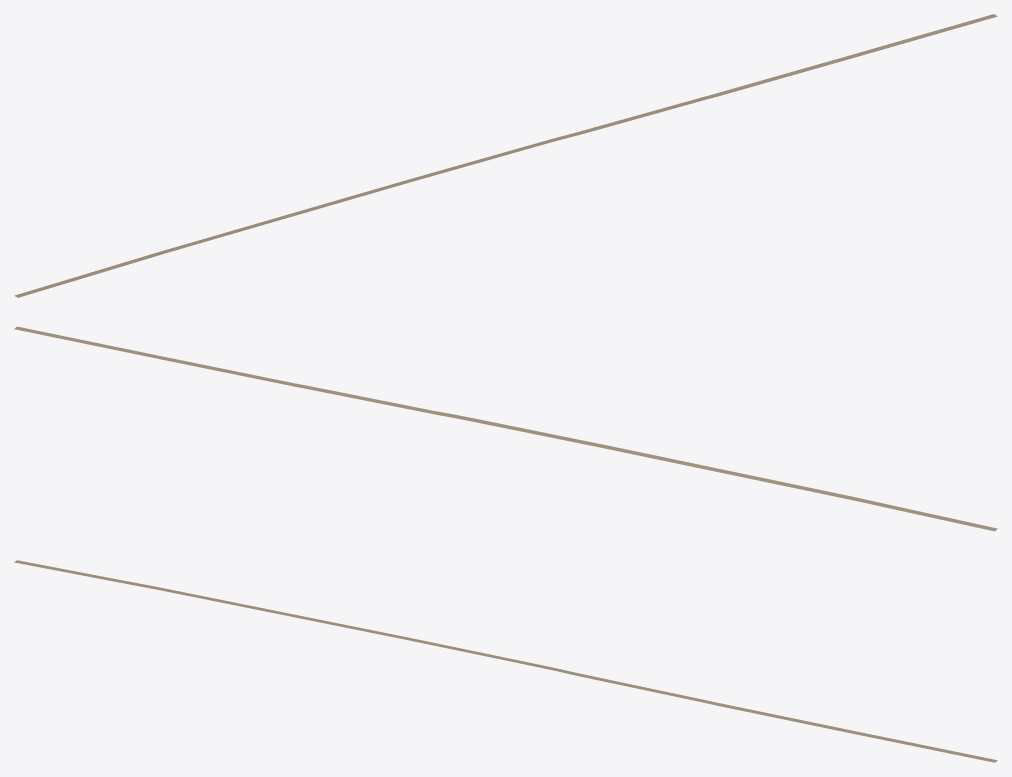
File: farm_5_0_track.glb
The picture shows the model from 3 angles, top to bottom: view 1: azimuth 30°, elevation 25°; view 2: azimuth 150°, elevation 25°; view 3: azimuth 330°, elevation 25°; orthographic projection. The views are drawn at different scales.
Visible parts, largest first — view 1: geometry_0; view 2: geometry_0; view 3: geometry_0.
Boxes of the visible parts, box(x1,y1,x2,y2) form: geometry_0: box(14, 14, 997, 297); geometry_0: box(14, 326, 997, 531); geometry_0: box(14, 560, 997, 762).
Size of the model in its own units: 526 by 1.79 by 41.
